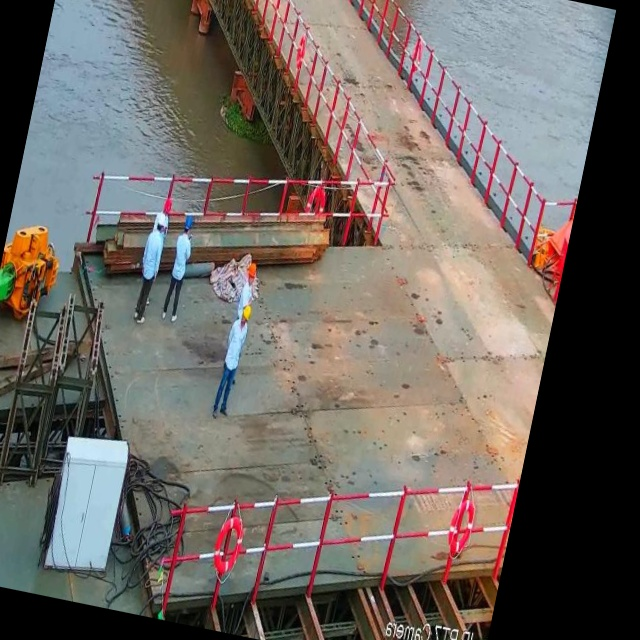Con_Casco: (240, 304, 253, 328), (246, 262, 258, 284), (183, 213, 195, 234)
